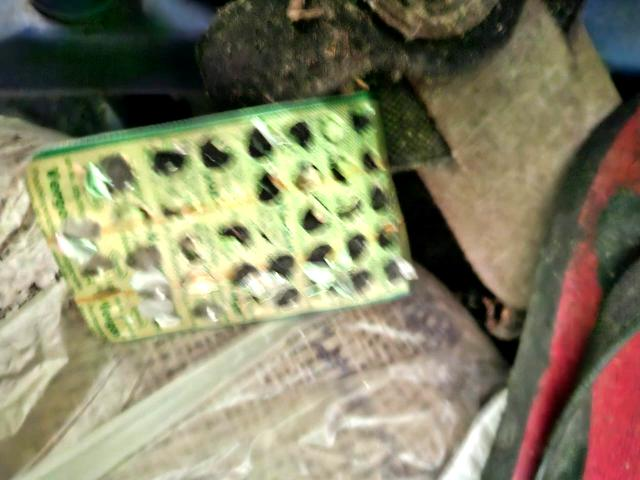medicine: (10, 86, 419, 367)
